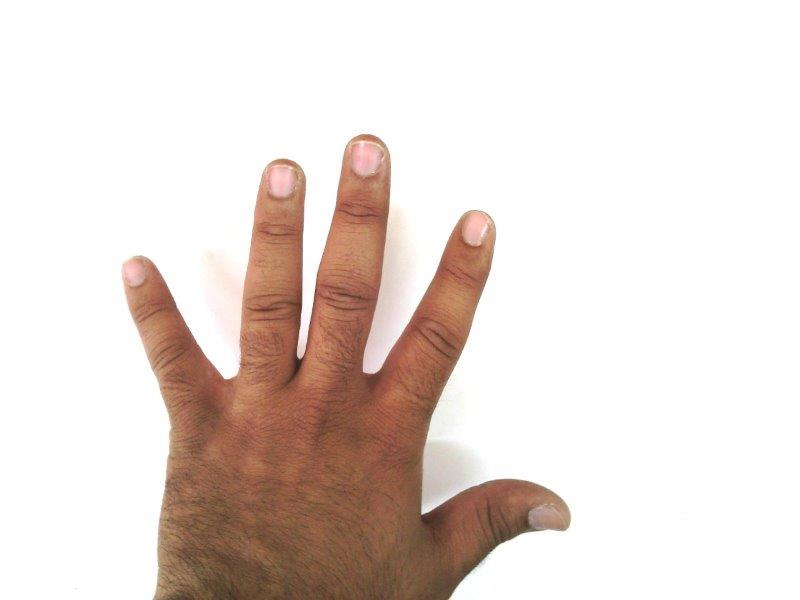hand: (121, 134, 570, 600)
